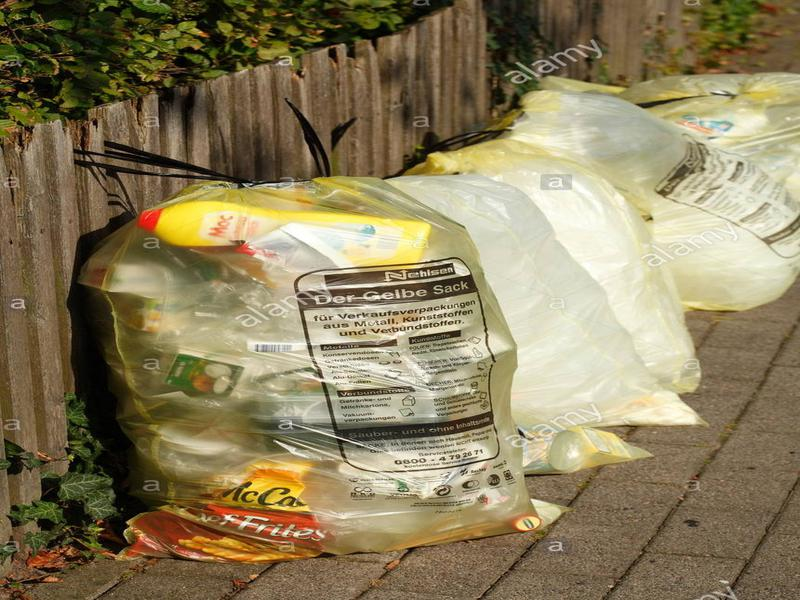plastic: (71, 170, 576, 564), (496, 75, 800, 322)
